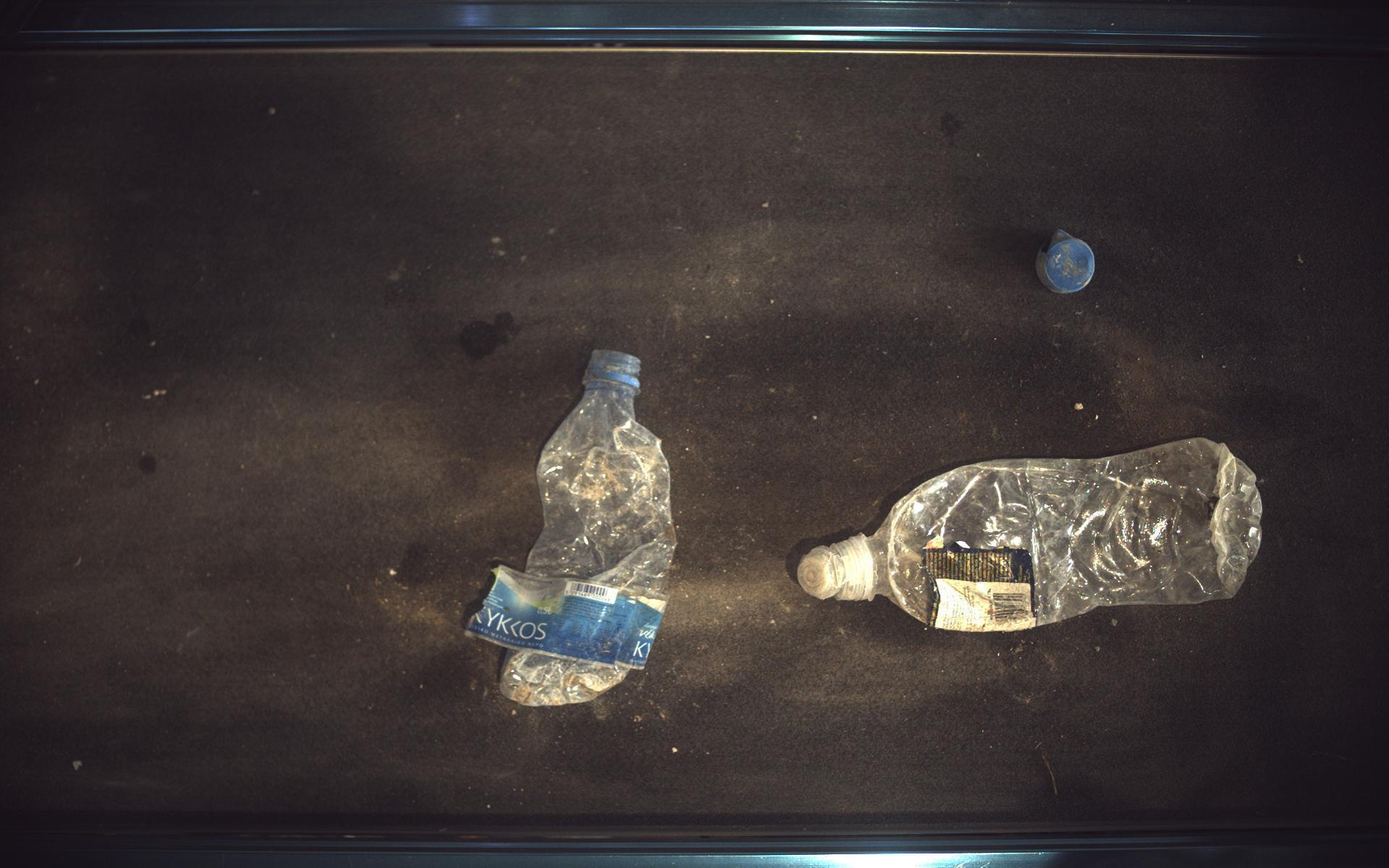general_w: (799, 438, 1265, 633), (467, 352, 677, 707)
